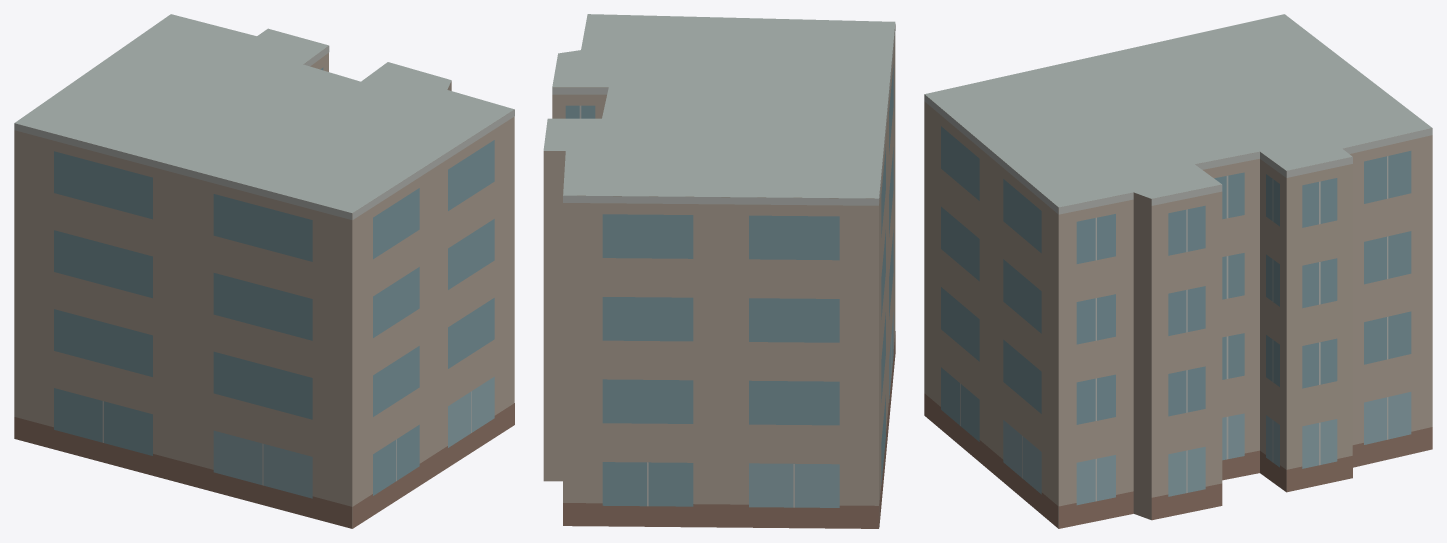
The model's file is survey-upis-32958221.glb.
3 views of the same model, side by side, from view 1: azimuth 30°, elevation 25°; view 2: azimuth 150°, elevation 25°; view 3: azimuth 270°, elevation 25° (orthographic). The views are drawn at different scales.
Visible parts, largest first — view 1: survey-upis-32958221.tmp; view 2: survey-upis-32958221.tmp; view 3: survey-upis-32958221.tmp.
Part boxes in pixels (<box>): survey-upis-32958221.tmp: <box>14,14,514,528</box>; survey-upis-32958221.tmp: <box>543,14,895,528</box>; survey-upis-32958221.tmp: <box>924,14,1432,528</box>.
Bounding box in the file's own units: 14.21 × 11 × 15.77.
